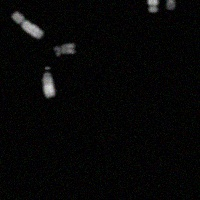chromosome: (12, 10, 43, 37), (42, 68, 56, 98), (54, 43, 75, 58), (147, 0, 158, 12), (166, 0, 176, 12)
